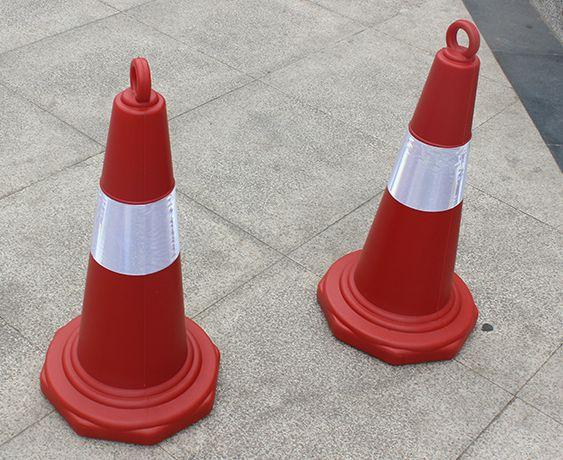sign: (35, 52, 234, 446), (322, 21, 490, 363)
